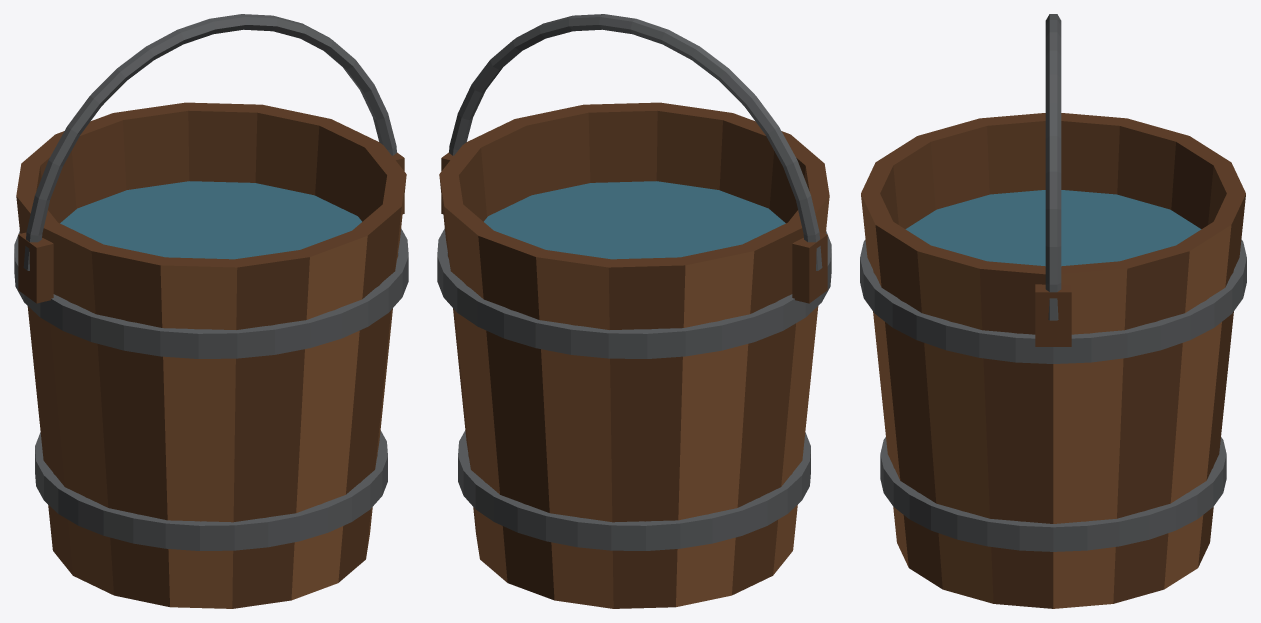
Rendered from water-bucket_final.glb.
3 renders of one model, left to right at view 1: azimuth 30°, elevation 25°; view 2: azimuth 150°, elevation 25°; view 3: azimuth 270°, elevation 25°, orthographic. The views are drawn at different scales.
Visible parts, largest first — view 1: SM_WaterBucket_Body, SM_WaterBucket, SM_WaterBucket_Water, SM_WaterBucket_Handle; view 2: SM_WaterBucket_Body, SM_WaterBucket, SM_WaterBucket_Water, SM_WaterBucket_Handle; view 3: SM_WaterBucket_Body, SM_WaterBucket, SM_WaterBucket_Water, SM_WaterBucket_Handle.
Part boxes in pixels (x1=…): SM_WaterBucket_Body: x1=16, y1=102, x2=406, y2=608; SM_WaterBucket: x1=14, y1=152, x2=408, y2=550; SM_WaterBucket_Water: x1=60, y1=181, x2=361, y2=259; SM_WaterBucket_Handle: x1=23, y1=14, x2=396, y2=270; SM_WaterBucket_Body: x1=439, y1=102, x2=829, y2=608; SM_WaterBucket: x1=437, y1=152, x2=831, y2=550; SM_WaterBucket_Water: x1=484, y1=181, x2=785, y2=259; SM_WaterBucket_Handle: x1=449, y1=14, x2=822, y2=270; SM_WaterBucket_Body: x1=861, y1=113, x2=1245, y2=608; SM_WaterBucket: x1=860, y1=239, x2=1246, y2=551; SM_WaterBucket_Water: x1=905, y1=190, x2=1201, y2=266; SM_WaterBucket_Handle: x1=1045, y1=14, x2=1061, y2=320.
Bounding box in the file's own units: 0.3487 × 0.4678 × 0.3214.
